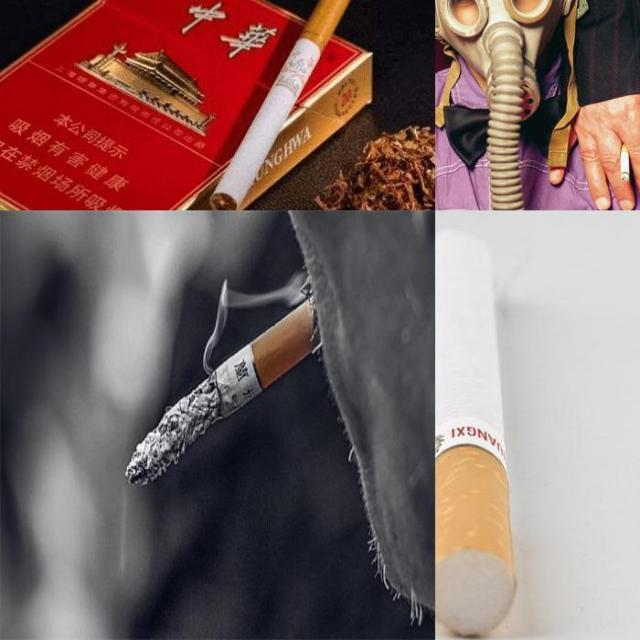cigarette: (126, 293, 326, 488), (435, 231, 517, 637), (210, 0, 368, 209), (621, 143, 629, 184)
